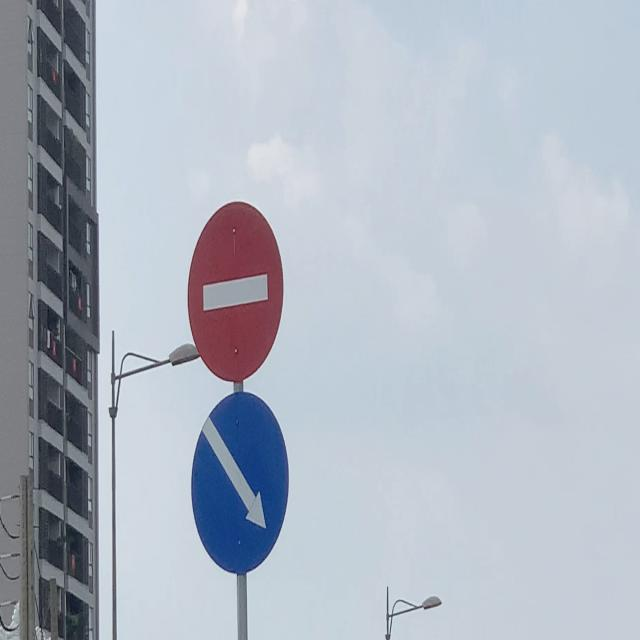Cam nguoc chieu: (186, 200, 284, 383)
Hieu lenh: (190, 390, 290, 576)
